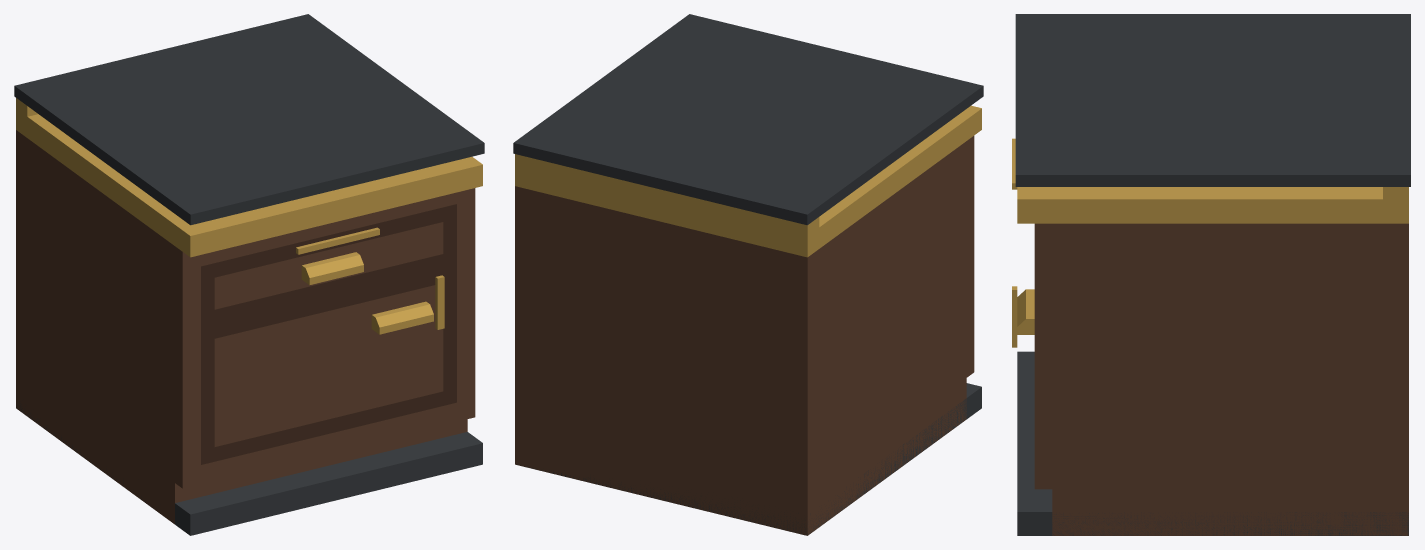
File: kitchenCabinetDrawer.glb
The picture shows the model from 3 angles, left to right: view 1: azimuth 30°, elevation 25°; view 2: azimuth 150°, elevation 25°; view 3: azimuth 270°, elevation 25°; orthographic projection. The views are drawn at different scales.
Visible parts, largest first — view 1: kitchenCabinetDrawer(Clone), door, drawer; view 2: kitchenCabinetDrawer(Clone); view 3: kitchenCabinetDrawer(Clone), door.
Part boxes in pixels (x1,y1,x2,y2): kitchenCabinetDrawer(Clone): (14, 14, 484, 535); door: (201, 265, 456, 464); drawer: (201, 204, 456, 327); kitchenCabinetDrawer(Clone): (513, 14, 983, 535); kitchenCabinetDrawer(Clone): (1012, 14, 1410, 535); door: (1017, 289, 1034, 334).
Size of the model in its own units: 0.43 by 0.45 by 0.45.
